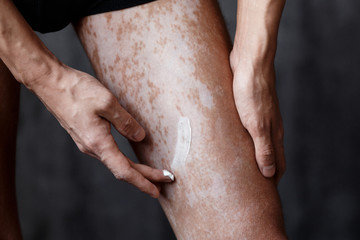vitiligo: (82, 17, 239, 161)
